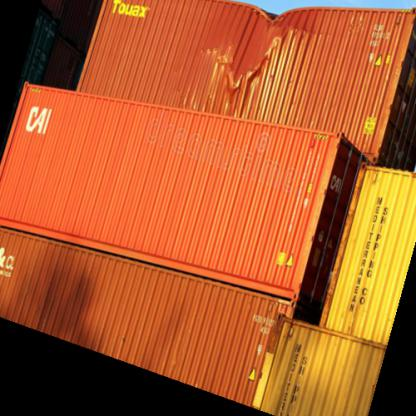Damage: (218, 8, 298, 92)
